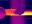Hotspot: (21, 11, 31, 15)
